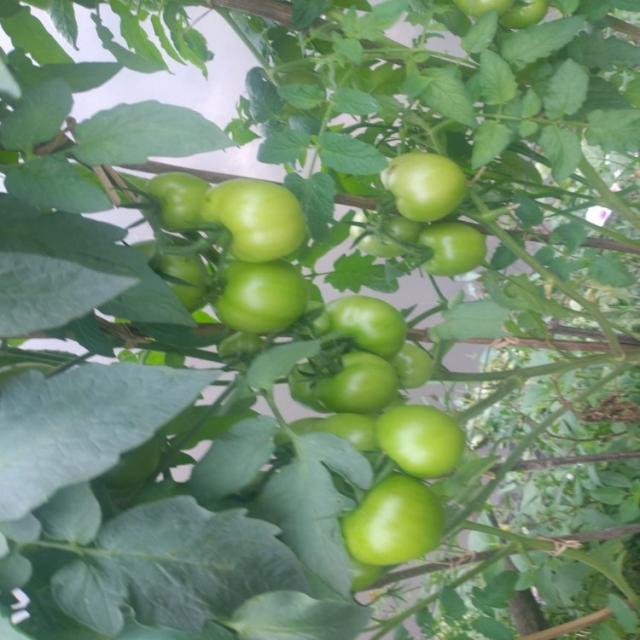tomato: (371, 389, 488, 492), (277, 335, 419, 412), (339, 474, 458, 563), (201, 255, 312, 333), (378, 148, 479, 231), (202, 179, 312, 253), (271, 394, 393, 458), (315, 293, 411, 363), (145, 167, 212, 235), (148, 237, 217, 300), (419, 215, 491, 271), (348, 213, 416, 252), (506, 1, 550, 31), (449, 1, 511, 17)
